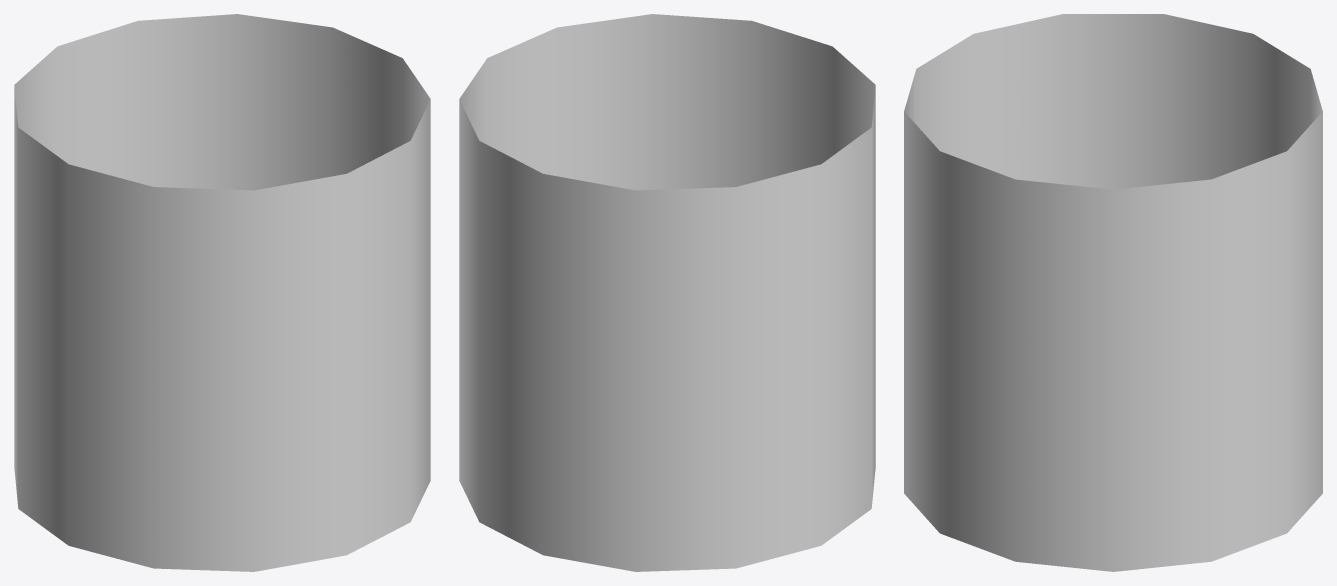
Rendered from FX_SM_Lazer_Cylinder.fbx.
3 renders of one model, left to right at view 1: azimuth 30°, elevation 25°; view 2: azimuth 150°, elevation 25°; view 3: azimuth 270°, elevation 25°, orthographic.
Parts seen in each view (by area): view 1: FX_SM_Lazer_Cylinder; view 2: FX_SM_Lazer_Cylinder; view 3: FX_SM_Lazer_Cylinder.
Boxes of the visible parts, x1,y1,x2,y2 form: FX_SM_Lazer_Cylinder: [14, 14, 430, 571]; FX_SM_Lazer_Cylinder: [459, 14, 875, 571]; FX_SM_Lazer_Cylinder: [904, 14, 1322, 571].
Size of the model in its own units: 19.71 by 20 by 19.85.
Materials: 1 (1 with a texture image).
